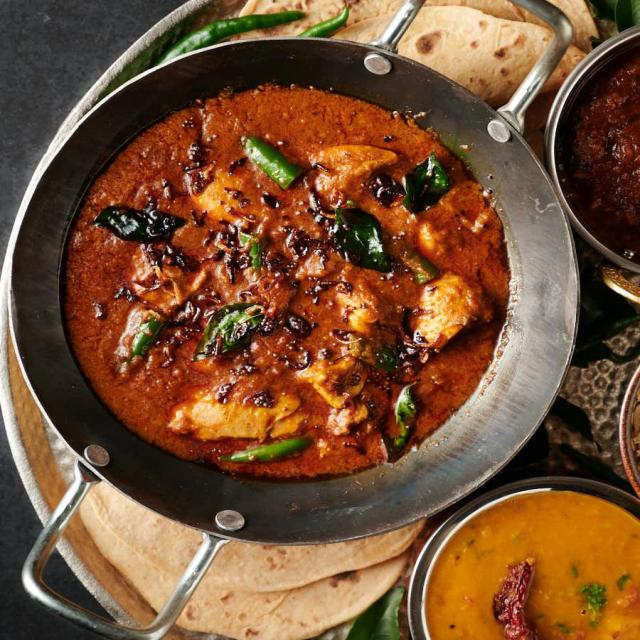chicken: (47, 87, 524, 488)
